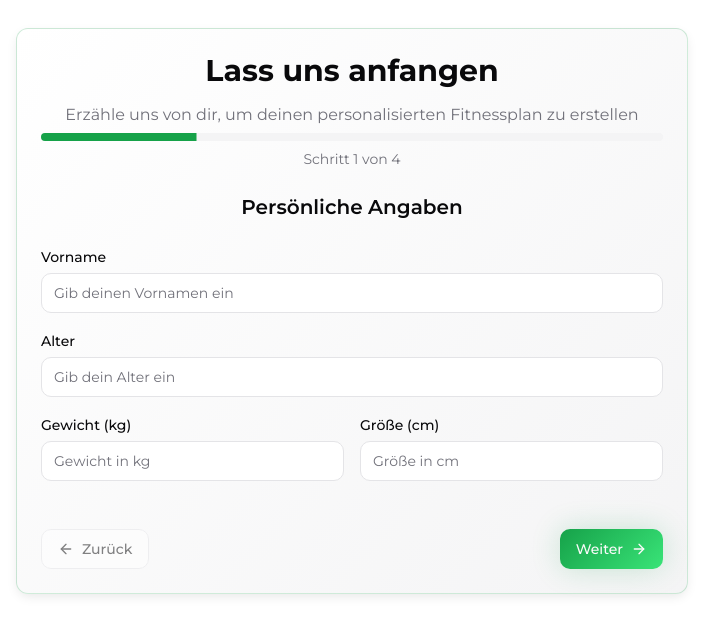
Test case: German onboarding › retains the bounds and localizes Vorname=M
The image size is (705, 627).
Type "Mia" into the field labelled "Vorname" at (352, 293), box [41,273,663,313]
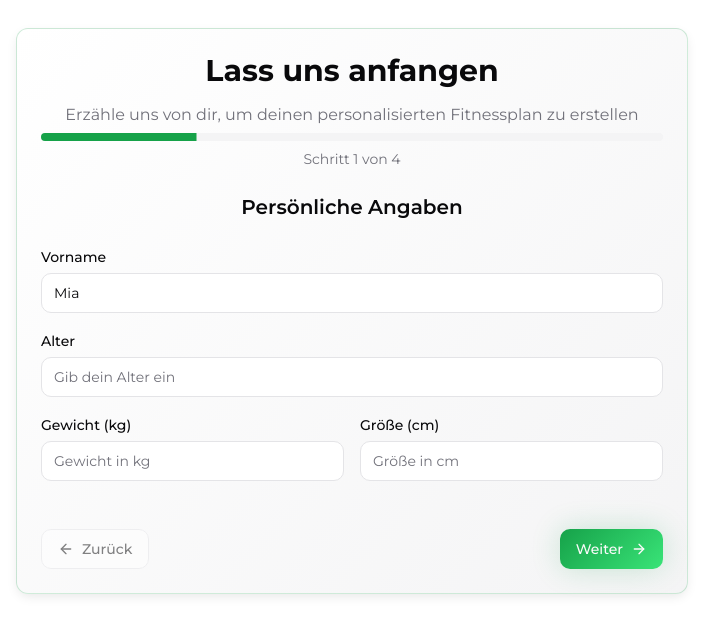
Type "31" into the number field labelled "Alter" at (352, 377), box [41,357,663,397]
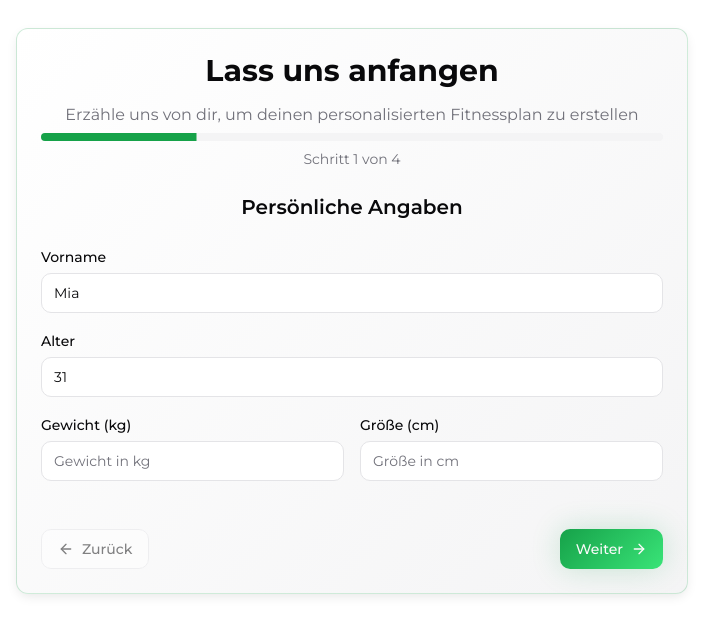
Type "72" into the number field labelled "Gewicht (kg)" at (192, 461), box [41,441,344,481]
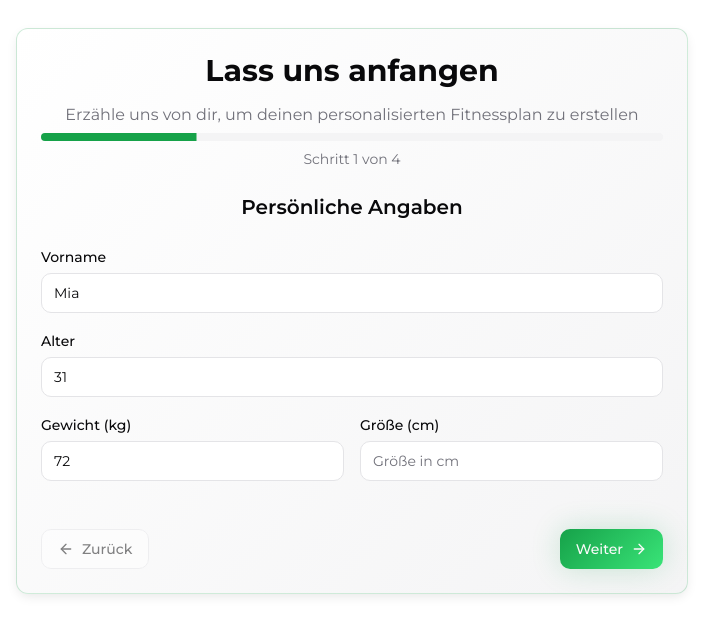
Type "168" into the number field labelled "Größe (cm)" at (512, 461), box [360,441,663,481]
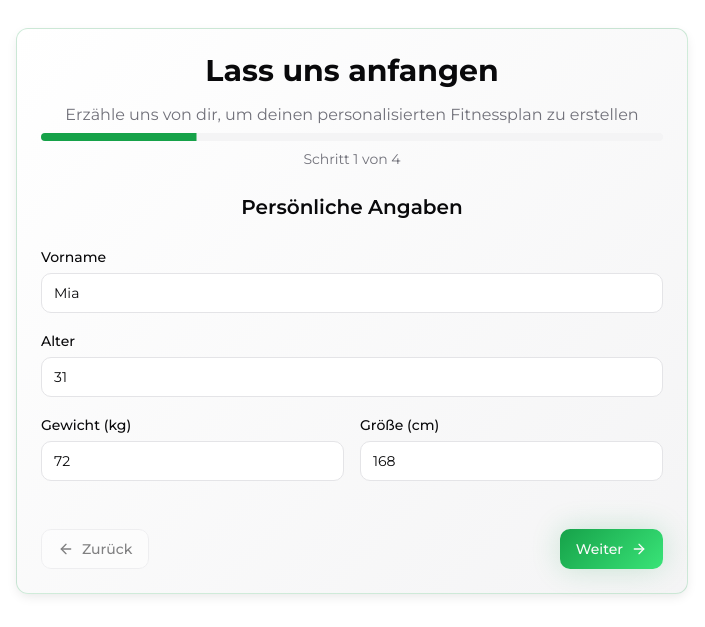
Replace the text in the field labelled "Vorname" with "M" at (352, 293), box [41,273,663,313]
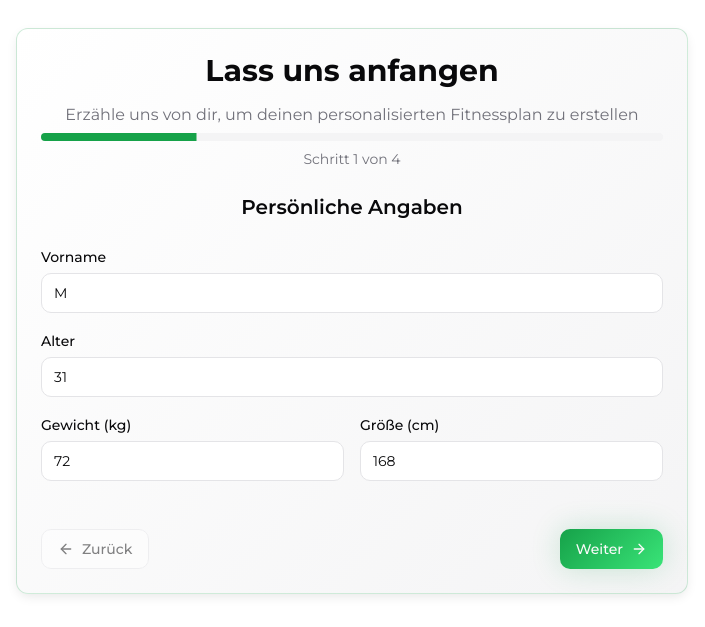
Click the button "Weiter" at (611, 549), box [560,529,663,569]
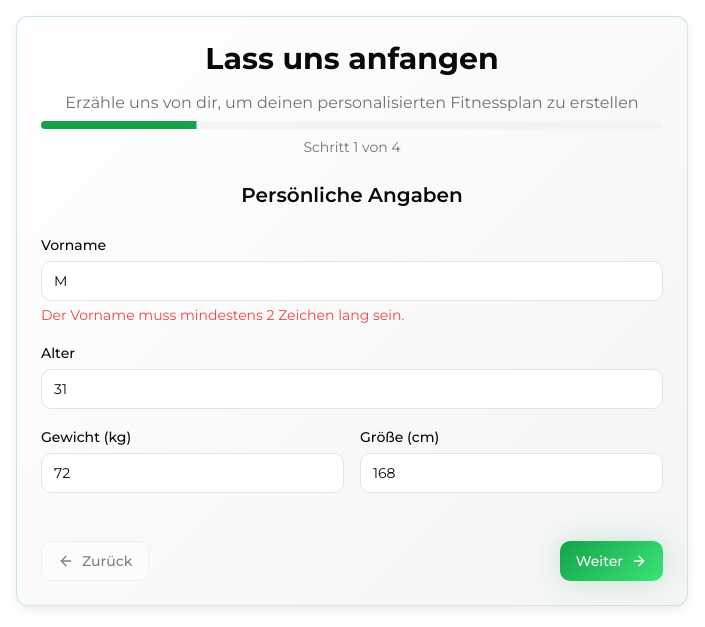
Expected: the heading "Persönliche Angaben" is shown, [241,183,463,207]
Expected: the text "Der Vorname muss mindestens 2 Zeichen lang sein." is shown, [41,306,404,324]
